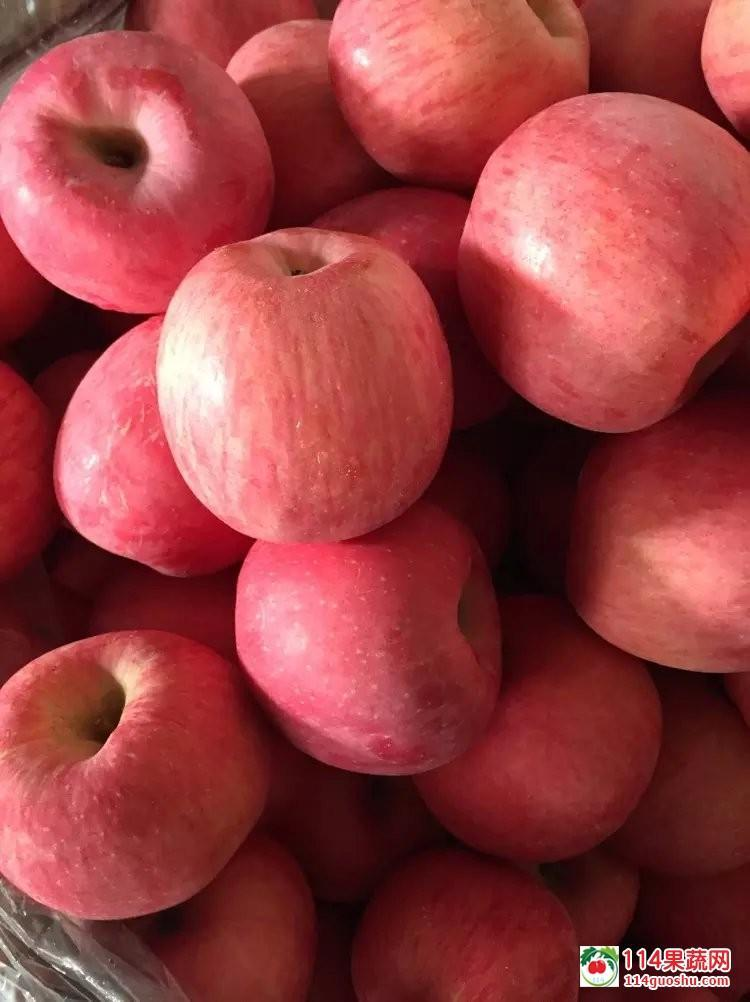apple: (443, 79, 743, 434), (149, 225, 459, 543), (1, 41, 275, 319), (1, 632, 271, 914), (229, 503, 502, 771), (404, 604, 653, 865), (46, 319, 253, 583), (562, 406, 749, 676), (331, 1, 597, 190)
